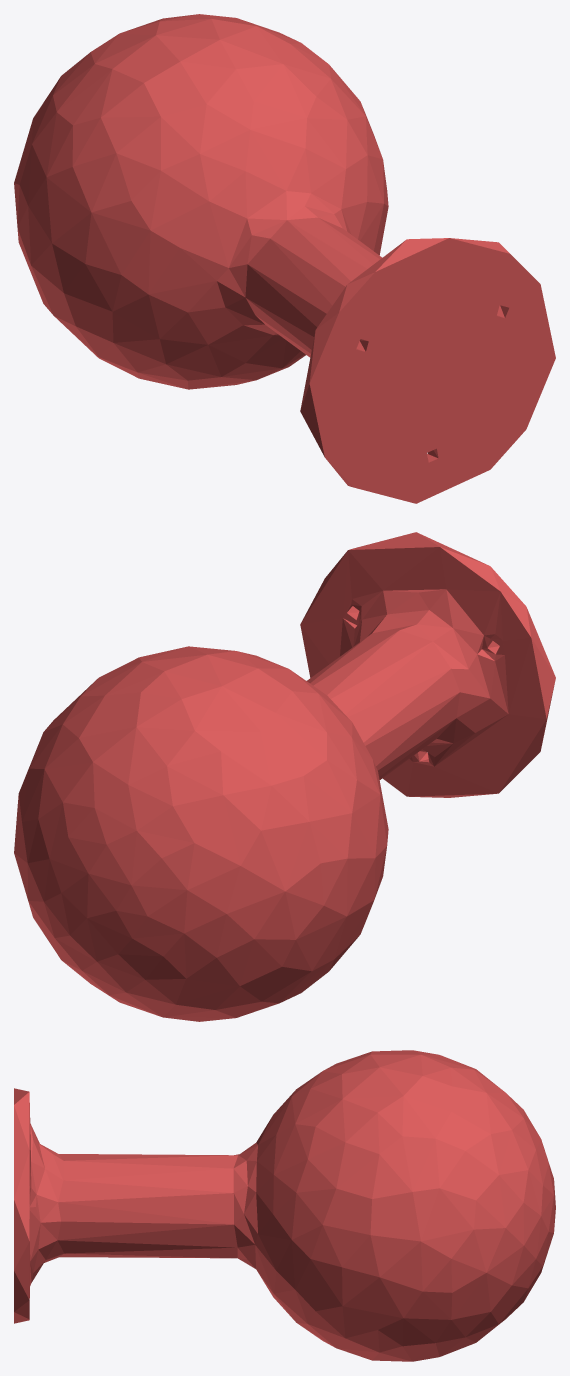
File: end_effector_origin_ball.dae
3 renders of one model, top to bottom at view 1: azimuth 30°, elevation 25°; view 2: azimuth 150°, elevation 25°; view 3: azimuth 270°, elevation 25°, orthographic. The views are drawn at different scales.
Visible parts, largest first — view 1: Shape_IndexedFaceSet; view 2: Shape_IndexedFaceSet; view 3: Shape_IndexedFaceSet.
Boxes of the visible parts, box(x1,y1,x2,y2) form: Shape_IndexedFaceSet: box(14, 14, 555, 503); Shape_IndexedFaceSet: box(14, 532, 555, 1021); Shape_IndexedFaceSet: box(14, 1050, 555, 1361).
Bounding box in the file's own units: 0.0799 × 0.139 × 0.0799.
